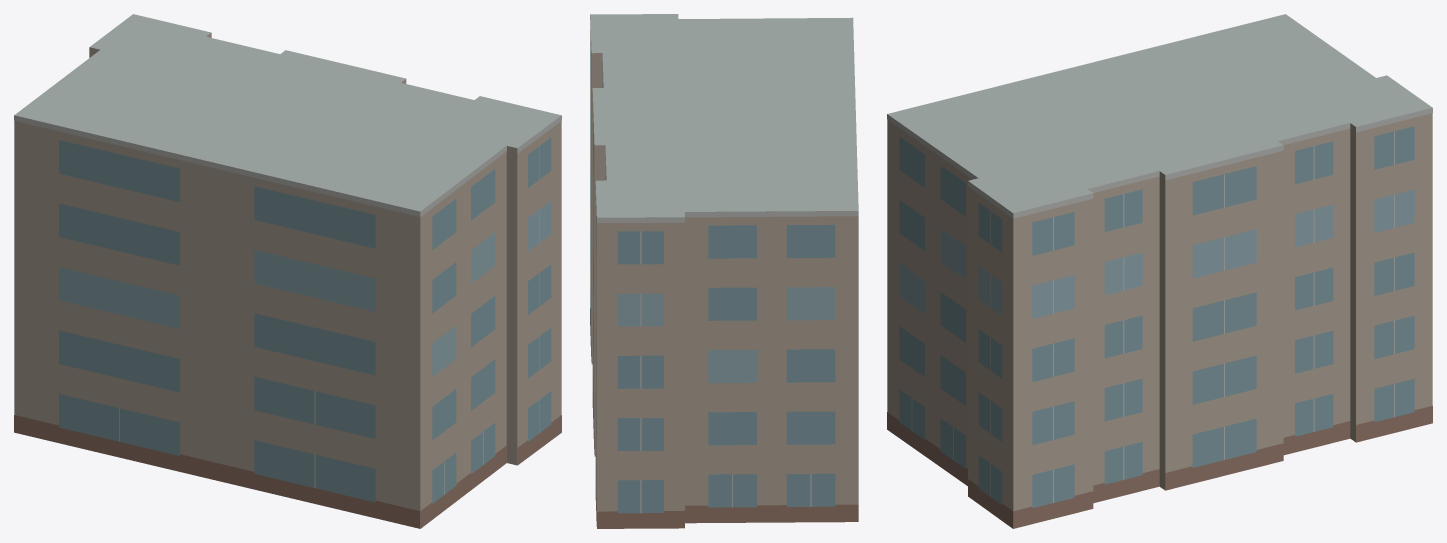
File: survey-upis-32762826.glb
3 renders of one model, left to right at view 1: azimuth 30°, elevation 25°; view 2: azimuth 150°, elevation 25°; view 3: azimuth 270°, elevation 25°, orthographic.
Parts seen in each view (by area): view 1: survey-upis-32762826.tmp; view 2: survey-upis-32762826.tmp; view 3: survey-upis-32762826.tmp.
Part boxes in pixels (<box>): survey-upis-32762826.tmp: <box>14,14,561,528</box>; survey-upis-32762826.tmp: <box>590,14,858,528</box>; survey-upis-32762826.tmp: <box>887,14,1432,528</box>.
Size of the model in its own units: 19.08 by 14.08 by 22.07.
